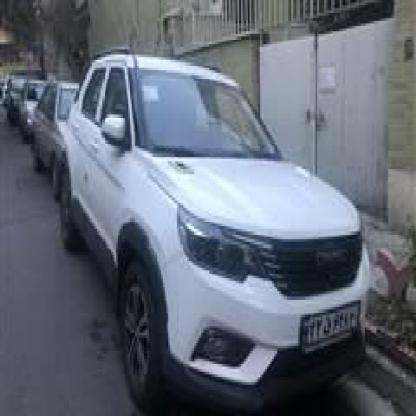Car: (62, 44, 371, 416), (28, 83, 94, 203), (23, 78, 45, 143), (5, 73, 19, 125)
